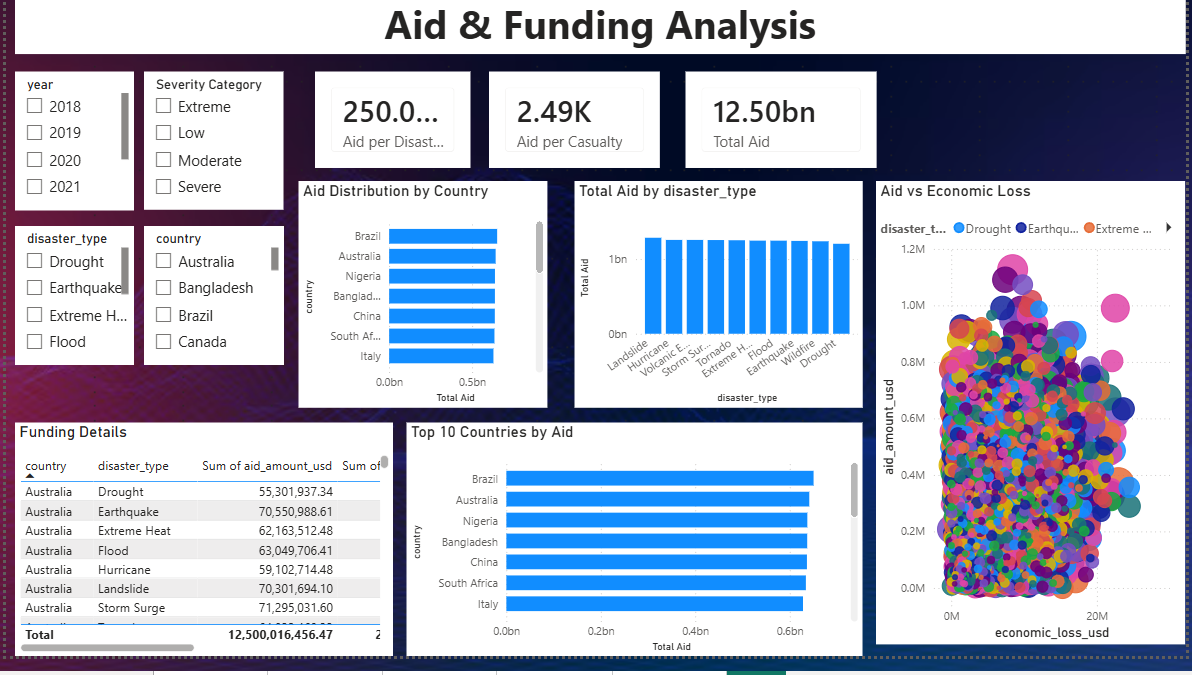

Layout of this report page (visuals, bound fields, positions):
{"tool":"powerbi","page":{"name":"Page 4","canvas":[1280,720],"ordinal":3},"visuals":[{"type":"textbox","box":[10.1,0,1269.9,67.4],"z":0},{"type":"slicer","fields":{"Values":["global_disaster_clean.year"]},"box":[9.8,86.2,128.5,149.7],"z":1},{"type":"slicer","fields":{"Values":["global_disaster_clean.disaster_type"]},"box":[9.8,253.8,128.5,149.7],"z":2},{"type":"slicer","fields":{"Values":["global_disaster_clean.country"]},"box":[149.7,253.8,151.3,149.7],"z":3},{"type":"slicer","fields":{"Values":["global_disaster_clean.Severity Category"]},"box":[149.7,86.2,151.3,149.7],"z":4},{"type":"cardVisual","fields":{"Data":["global_disaster_clean.Total Aid"]},"box":[737.7,85.9,207.2,104.4],"z":5},{"type":"cardVisual","fields":{"Data":["global_disaster_clean.Aid per Disaster"]},"box":[335.2,85.9,168.4,104.4],"z":6},{"type":"cardVisual","fields":{"Data":["global_disaster_clean.Aid per Casualty"]},"box":[523.8,85.9,185.3,104.4],"z":7},{"type":"clusteredBarChart","title":"Aid Distribution by Country","fields":{"Category":["global_disaster_clean.country"],"Y":["global_disaster_clean.Total Aid"]},"box":[317.3,205,270.1,245.7],"z":9},{"type":"scatterChart","title":"Aid vs Economic Loss","fields":{"Series":["global_disaster_clean.disaster_type"],"Size":["Sum(global_disaster_clean.casualties)"],"X":["global_disaster_clean.economic_loss_usd"],"Y":["global_disaster_clean.aid_amount_usd"]},"box":[943.7,205,335.2,502.8],"z":10},{"type":"clusteredColumnChart","title":"Total Aid by disaster_type","fields":{"Category":["global_disaster_clean.disaster_type"],"Y":["global_disaster_clean.Total Aid"]},"box":[616.7,205,312.4,245.7],"z":11},{"type":"clusteredBarChart","title":"Top 10 Countries by Aid","fields":{"Category":["global_disaster_clean.country"],"Y":["global_disaster_clean.Total Aid"]},"box":[434.4,467,494.6,253.8],"z":12},{"type":"tableEx","title":"Funding Details","fields":{"Values":["global_disaster_clean.country","global_disaster_clean.disaster_type","Sum(global_disaster_clean.aid_amount_usd)","Sum(global_disaster_clean.economic_loss_usd)","Sum(global_disaster_clean.casualties)","Sum(global_disaster_clean.response_time_hours)"]},"box":[9.8,467,410,253.8],"z":13}]}

Visuals, with their boxes in screenshot pixels (x1, y1, x2, y2), scaled from the page's 1280x720 canvas onto the 1192x675 screenshot:
textbox: pyautogui.locateOnScreen(9, 0, 1191, 63)
slicer - global_disaster_clean.year: pyautogui.locateOnScreen(9, 81, 129, 221)
slicer - global_disaster_clean.disaster_type: pyautogui.locateOnScreen(9, 238, 129, 378)
slicer - global_disaster_clean.country: pyautogui.locateOnScreen(139, 238, 280, 378)
slicer - global_disaster_clean.Severity Category: pyautogui.locateOnScreen(139, 81, 280, 221)
cardVisual - global_disaster_clean.Total Aid: pyautogui.locateOnScreen(687, 81, 880, 178)
cardVisual - global_disaster_clean.Aid per Disaster: pyautogui.locateOnScreen(312, 81, 469, 178)
cardVisual - global_disaster_clean.Aid per Casualty: pyautogui.locateOnScreen(488, 81, 660, 178)
"Aid Distribution by Country" clusteredBarChart: pyautogui.locateOnScreen(295, 192, 547, 423)
"Aid vs Economic Loss" scatterChart: pyautogui.locateOnScreen(879, 192, 1191, 664)
"Total Aid by disaster_type" clusteredColumnChart: pyautogui.locateOnScreen(574, 192, 865, 423)
"Top 10 Countries by Aid" clusteredBarChart: pyautogui.locateOnScreen(405, 438, 865, 674)
"Funding Details" tableEx: pyautogui.locateOnScreen(9, 438, 391, 674)
